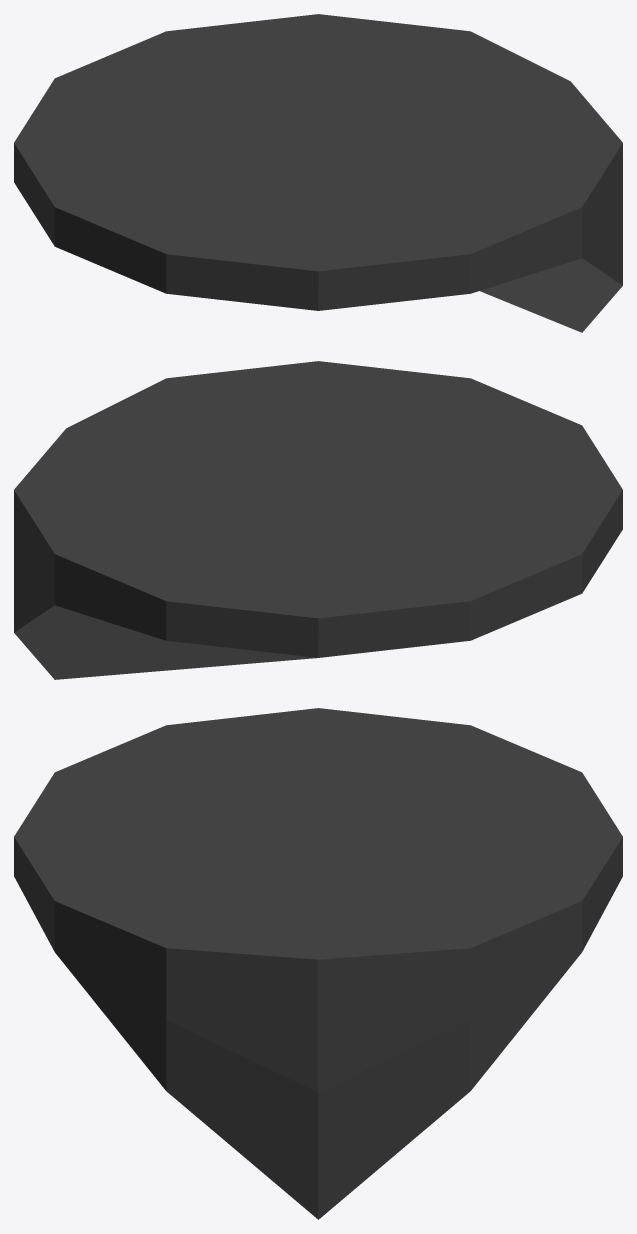
File: Bandana_Black.fbx
3 views of the same model, one above another, from view 1: azimuth 30°, elevation 25°; view 2: azimuth 150°, elevation 25°; view 3: azimuth 270°, elevation 25° (orthographic).
Visible parts, largest first — view 1: Circle; view 2: Circle; view 3: Circle.
Boxes of the visible parts, bbox=[...] form: Circle: bbox=[14, 14, 622, 332]; Circle: bbox=[14, 361, 622, 679]; Circle: bbox=[14, 708, 622, 1219].
Bounding box in the file's own units: 251 × 116 × 251.
1 material, 1 textured.
